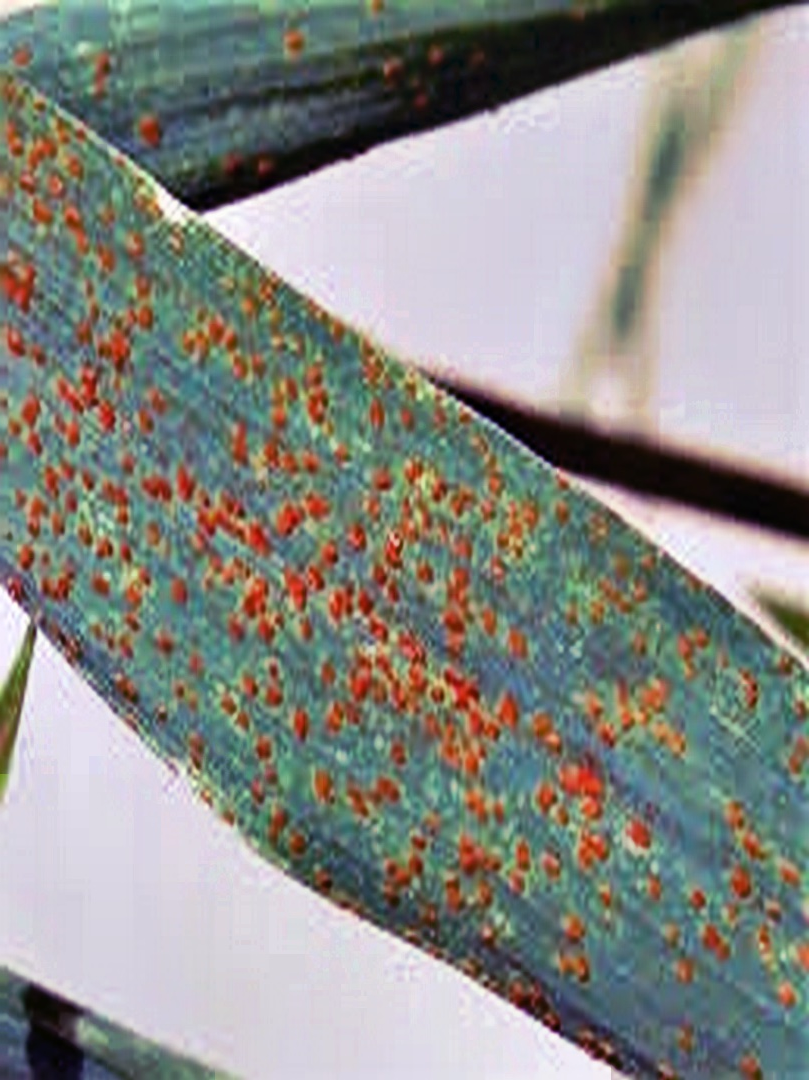Leaf Rust: (39, 250, 785, 1023)
